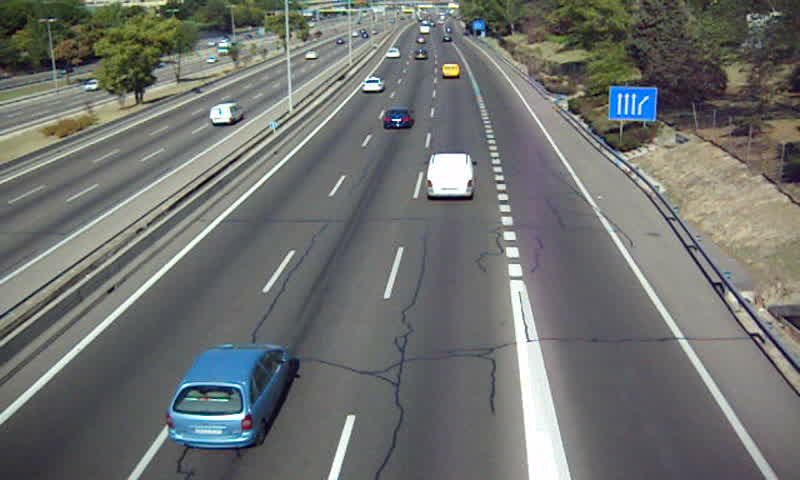car: (167, 346, 292, 449), (381, 108, 414, 129), (361, 77, 384, 92), (413, 49, 429, 63), (384, 47, 401, 60)
van: (427, 153, 474, 200), (442, 63, 460, 78)
